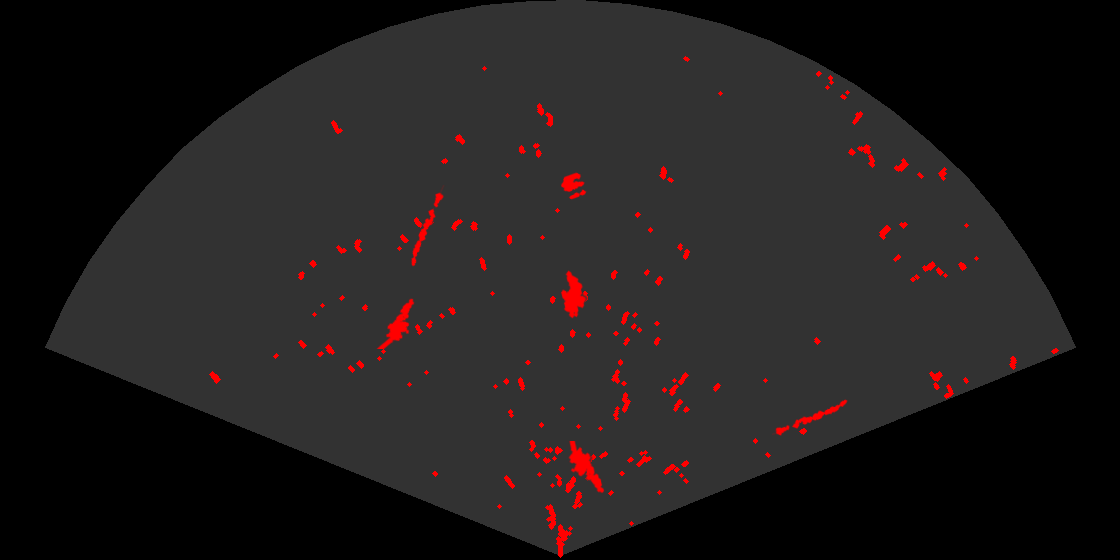AUV: (559, 269, 588, 320)
ball: (559, 171, 588, 201)
chain: (772, 398, 849, 437), (410, 185, 446, 268)
frogman: (375, 297, 416, 349), (567, 441, 606, 495)
